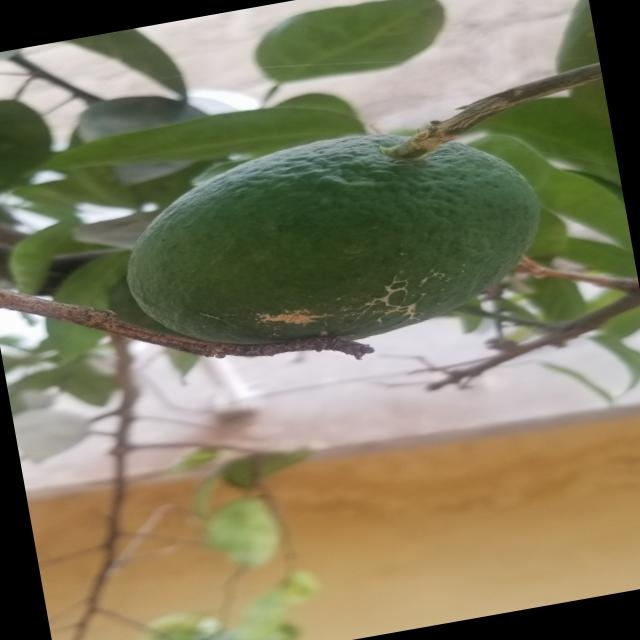agrume: (92, 99, 568, 413)
